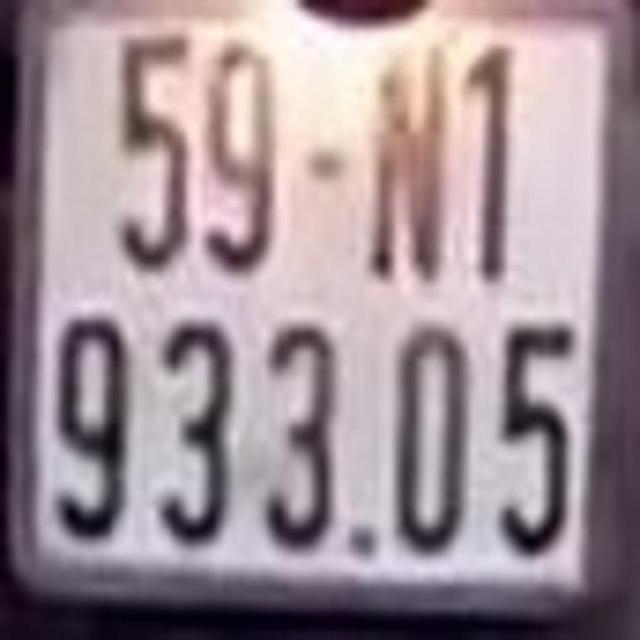0: (398, 322, 468, 552)
1: (462, 34, 509, 281)
3: (158, 314, 228, 538), (265, 320, 330, 546)
5: (116, 28, 192, 262), (499, 318, 570, 552)
9: (202, 36, 273, 271), (56, 312, 129, 539)
N: (373, 42, 444, 282)
